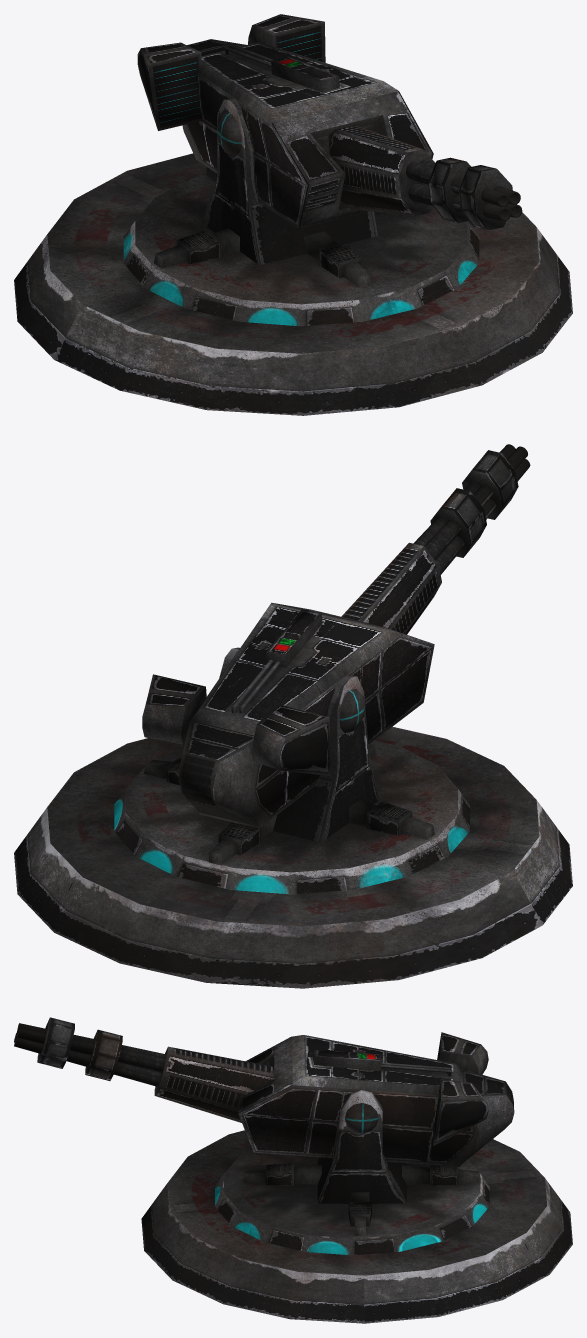
Rendered from canon_plasma.obj.
The picture shows the model from 3 angles, top to bottom: view 1: azimuth 30°, elevation 25°; view 2: azimuth 150°, elevation 25°; view 3: azimuth 270°, elevation 25°; orthographic projection. The views are drawn at different scales.
Visible parts, largest first — view 1: canon_plasma.obj; view 2: canon_plasma.obj; view 3: canon_plasma.obj.
Boxes of the visible parts, x1,y1,x2,y2 form: canon_plasma.obj: [14, 14, 572, 415]; canon_plasma.obj: [14, 444, 572, 988]; canon_plasma.obj: [14, 1017, 572, 1323].
Size of the model in its own units: 2.35 by 1.26 by 3.02.
1 material, 1 textured.
